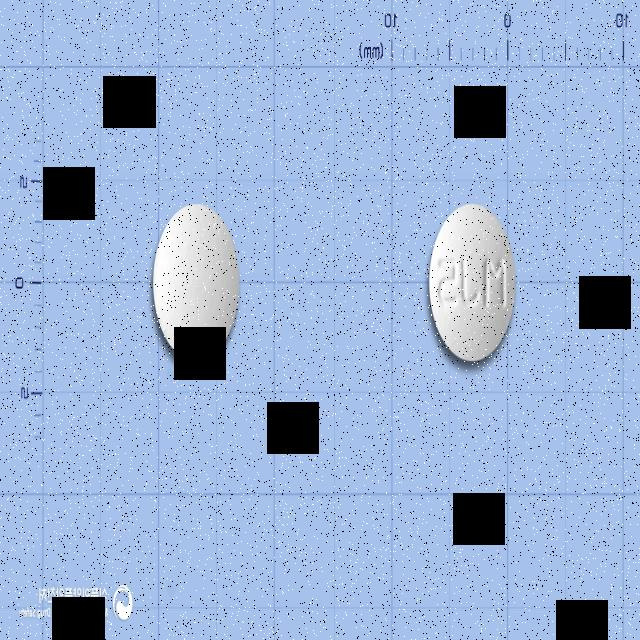Levofcin: (427, 202, 515, 364), (152, 202, 238, 362)
